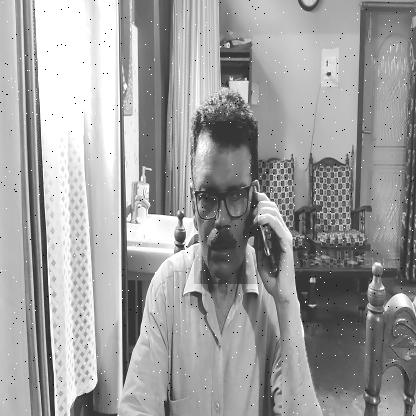Normal: (194, 121, 258, 284)
